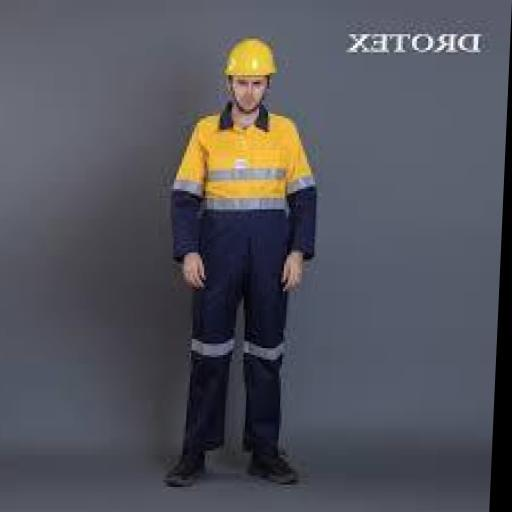safety_boots: (158, 456, 210, 498), (250, 451, 302, 492)
